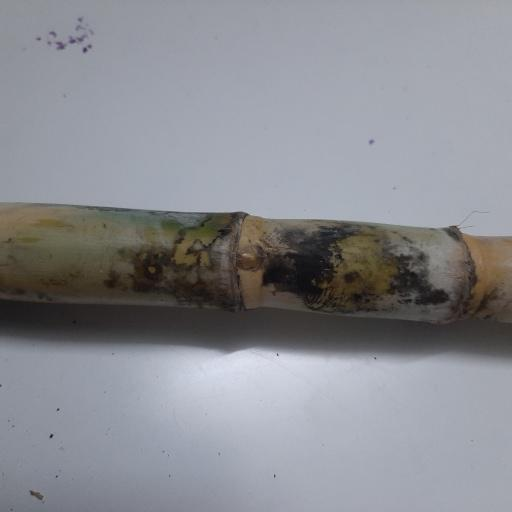Bud: (235, 243, 263, 271)
